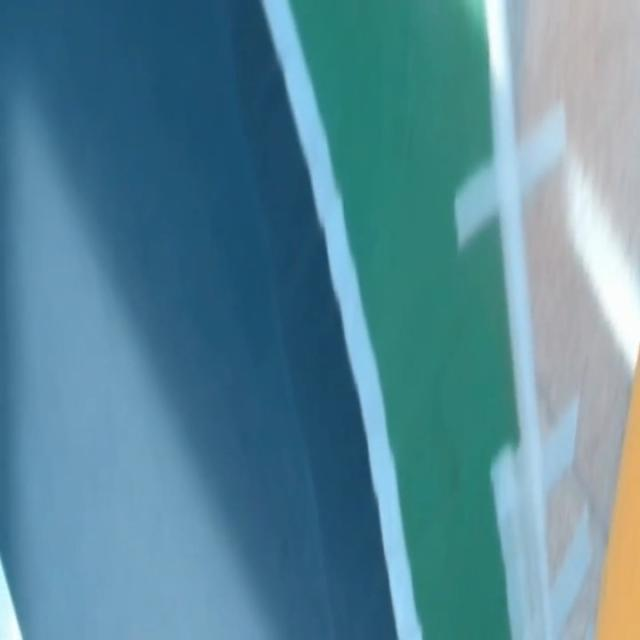center: (0, 558, 21, 639)
right: (262, 0, 421, 639)
